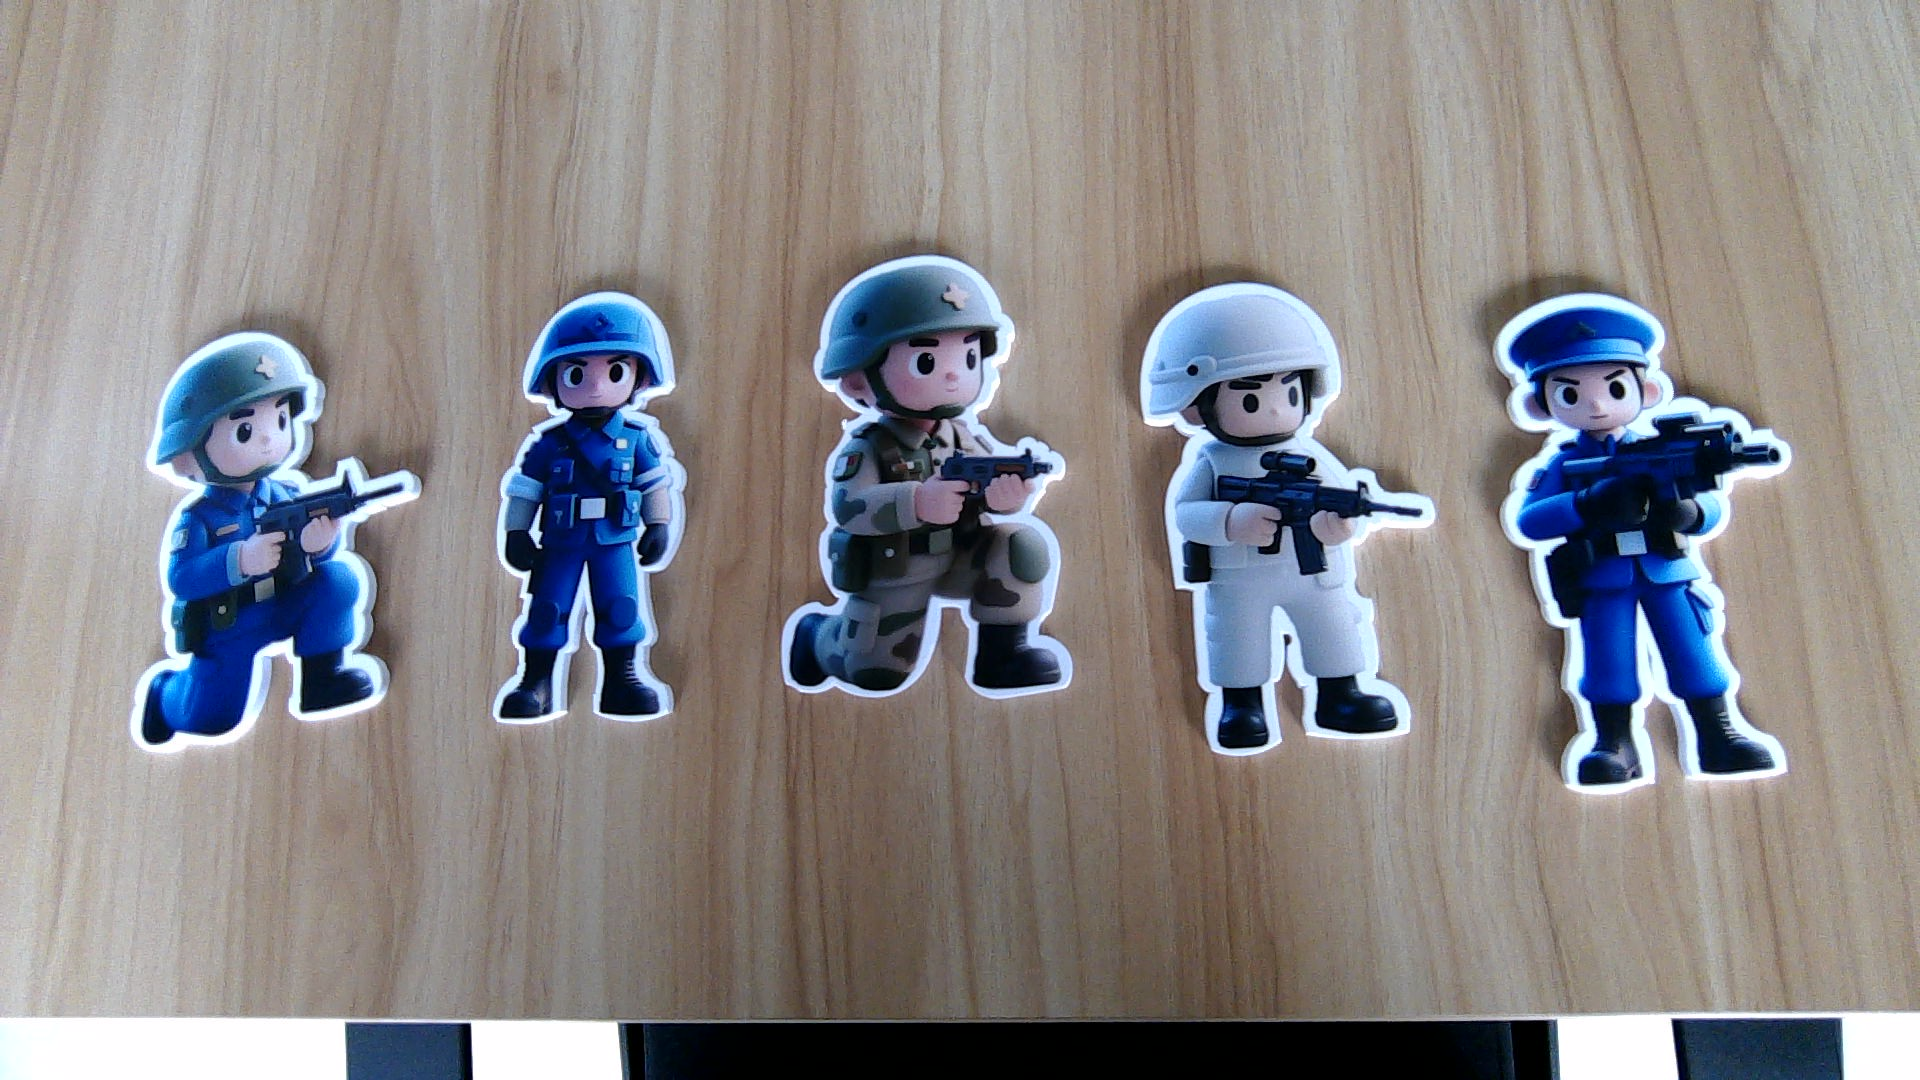人质: (1156, 450, 1436, 750)
友军: (779, 419, 1073, 705)
敌人2: (1499, 433, 1796, 800), (125, 483, 415, 744), (488, 414, 692, 729)
